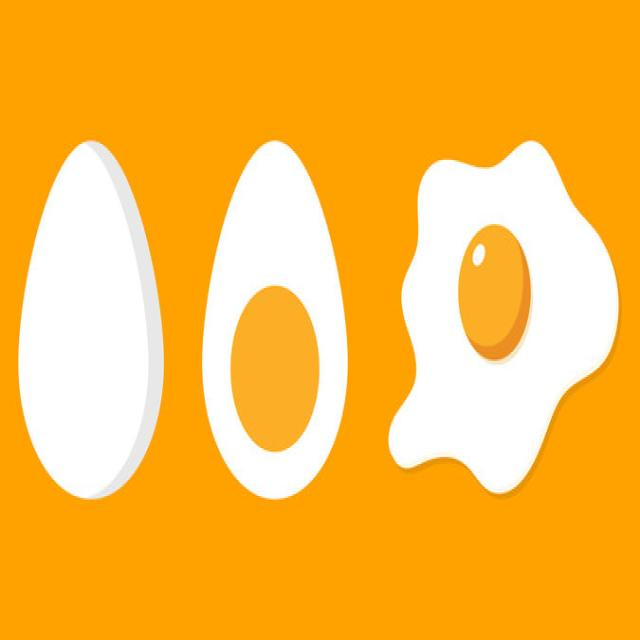Egg: (389, 143, 619, 491), (202, 141, 348, 498)
